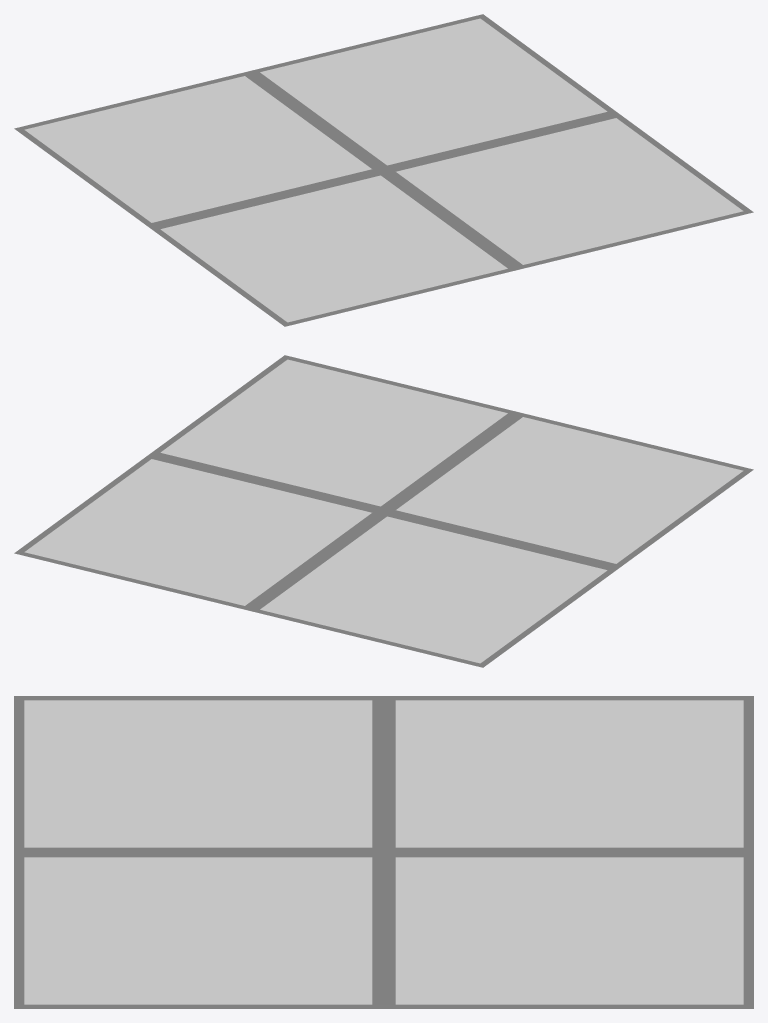
File: Floor1.glb
3 views of the same model, one above another, from view 1: azimuth 30°, elevation 25°; view 2: azimuth 150°, elevation 25°; view 3: azimuth 270°, elevation 25° (orthographic). The views are drawn at different scales.
Parts seen in each view (by area): view 1: SI_Env_Floor_01; view 2: SI_Env_Floor_01; view 3: SI_Env_Floor_01.
Boxes of the visible parts, x1,y1,x2,y2 form: SI_Env_Floor_01: [14, 14, 753, 326]; SI_Env_Floor_01: [14, 355, 753, 667]; SI_Env_Floor_01: [14, 696, 753, 1008].
Bounding box in the file's own units: 0.05 × 1.11e-17 × 0.05.
1 material, 1 textured.
